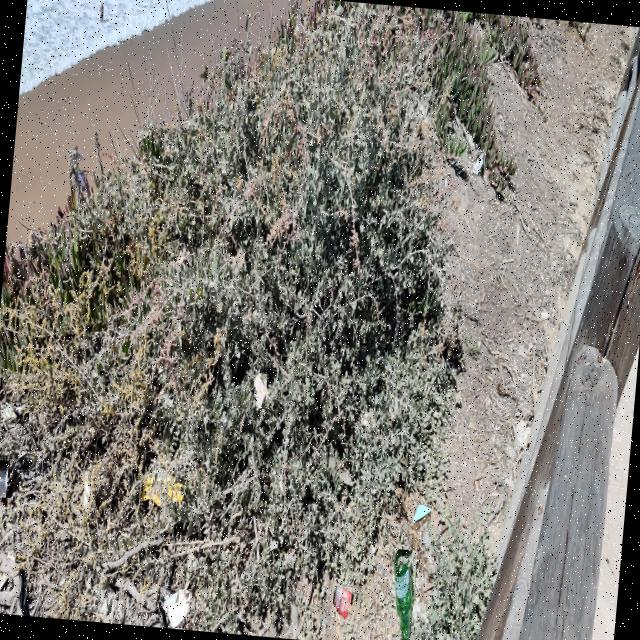Cigarette: (474, 480, 479, 492)
Glass bottle: (393, 549, 412, 640), (0, 461, 9, 496)
Other plastic: (141, 467, 186, 508)
Plastic film: (329, 456, 353, 492)
Unlabeled litter: (159, 590, 192, 627), (333, 586, 351, 619), (1, 403, 29, 422), (254, 373, 266, 407), (517, 420, 529, 450), (413, 505, 431, 522), (472, 153, 484, 175), (419, 521, 430, 545), (83, 471, 89, 511)
